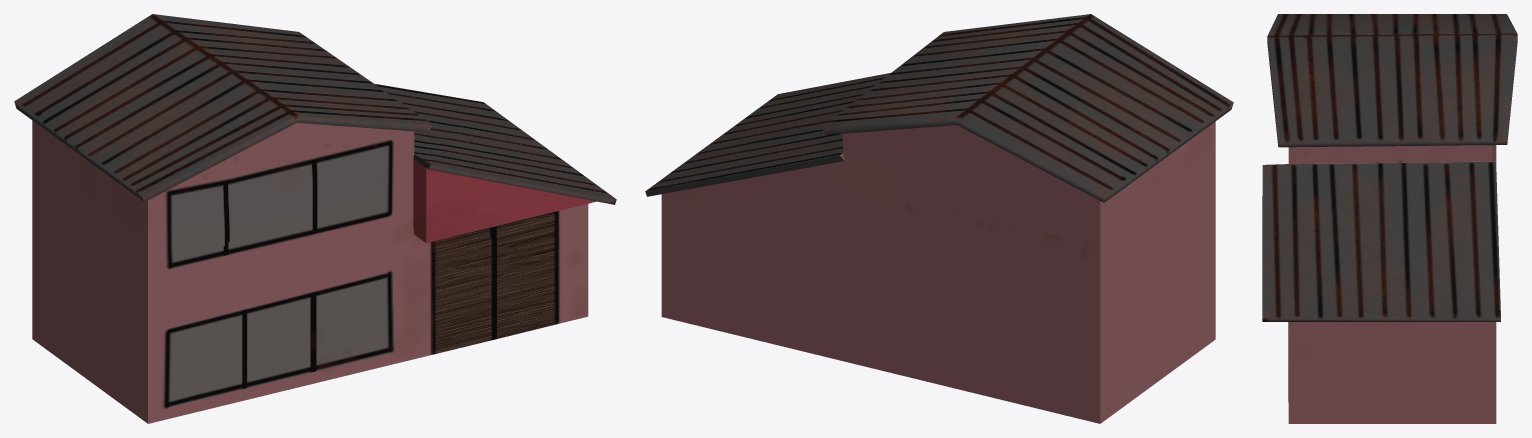
Rendered from House3.fbx.
3 renders of one model, left to right at view 1: azimuth 30°, elevation 25°; view 2: azimuth 150°, elevation 25°; view 3: azimuth 270°, elevation 25°, orthographic. The views are drawn at different scales.
Visible parts, largest first — view 1: House3_House3_pCube3; view 2: House3_House3_pCube3; view 3: House3_House3_pCube3.
Part boxes in pixels (<box>): House3_House3_pCube3: <box>14,14,616,423</box>; House3_House3_pCube3: <box>645,14,1233,423</box>; House3_House3_pCube3: <box>1262,14,1517,423</box>.
Size of the model in its own units: 0.1177 by 0.0686 by 0.0623.
1 material, 1 textured.
